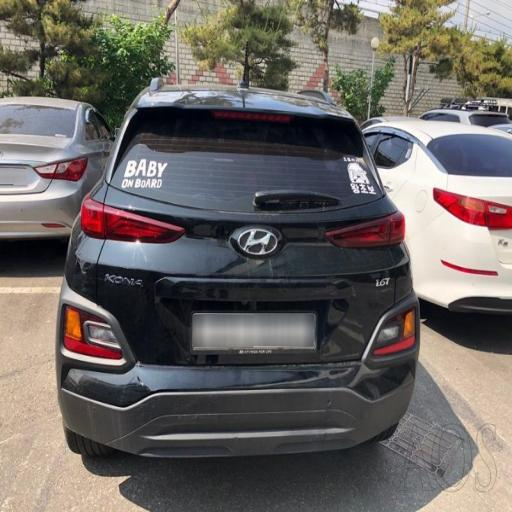dent: (98, 310, 396, 459)
